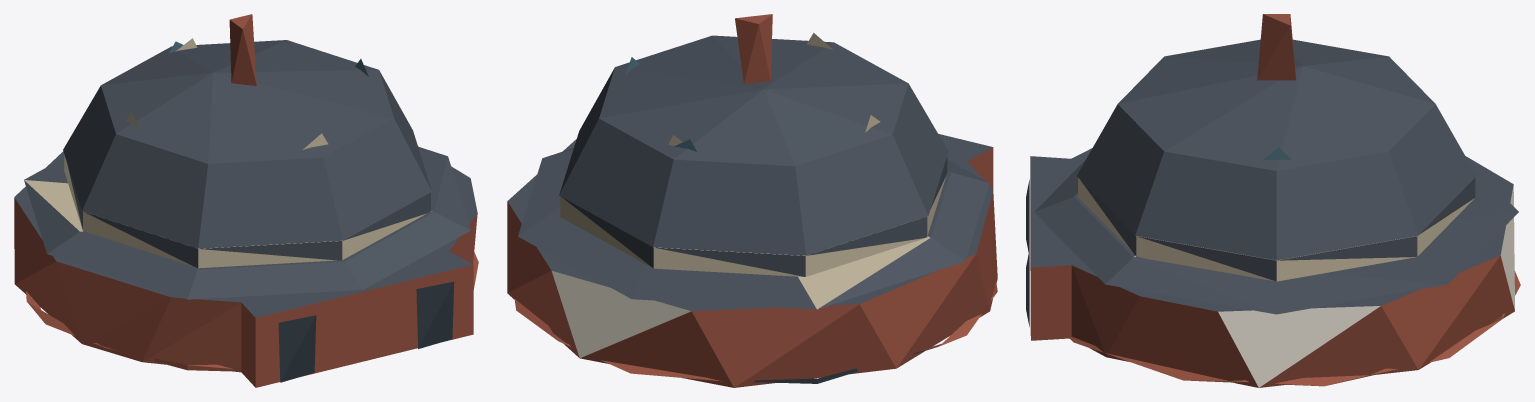
File: badhuistheater.lod2.glb
3 renders of one model, left to right at view 1: azimuth 30°, elevation 25°; view 2: azimuth 150°, elevation 25°; view 3: azimuth 270°, elevation 25°, orthographic. The views are drawn at different scales.
Parts seen in each view (by area): view 1: lod2; view 2: lod2; view 3: lod2.
Boxes of the visible parts, box(x1,y1,x2,y2) form: lod2: box(14, 14, 478, 387); lod2: box(507, 14, 997, 387); lod2: box(1026, 14, 1520, 387).
Bounding box in the file's own units: 19 × 11.42 × 19.29.
